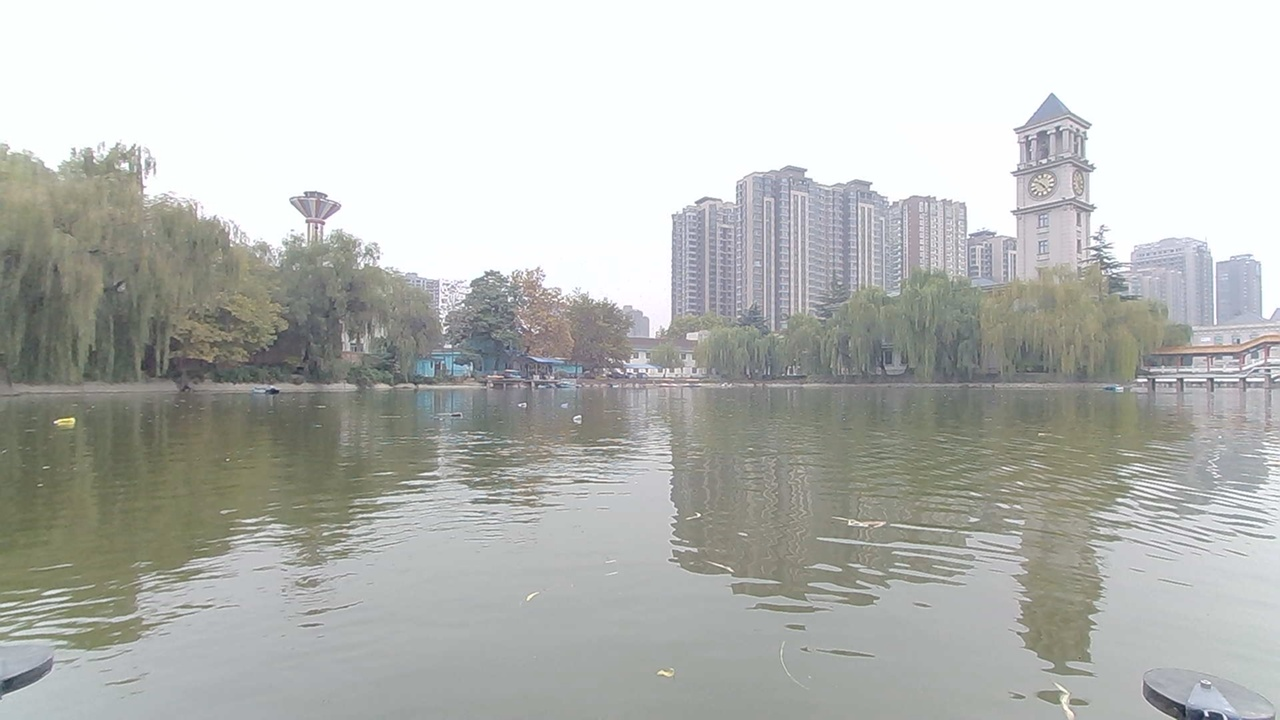bottle: (557, 405, 589, 428), (52, 411, 82, 435), (440, 399, 470, 421), (548, 392, 581, 409), (514, 396, 536, 415)
